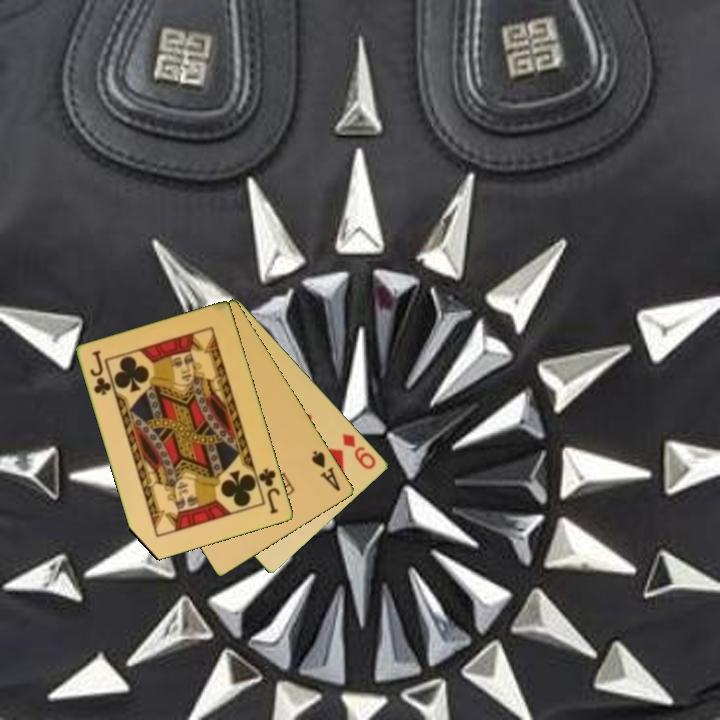9d: (339, 429, 379, 472)
As: (308, 447, 344, 494)
Jc: (255, 465, 283, 517), (87, 347, 114, 398)
